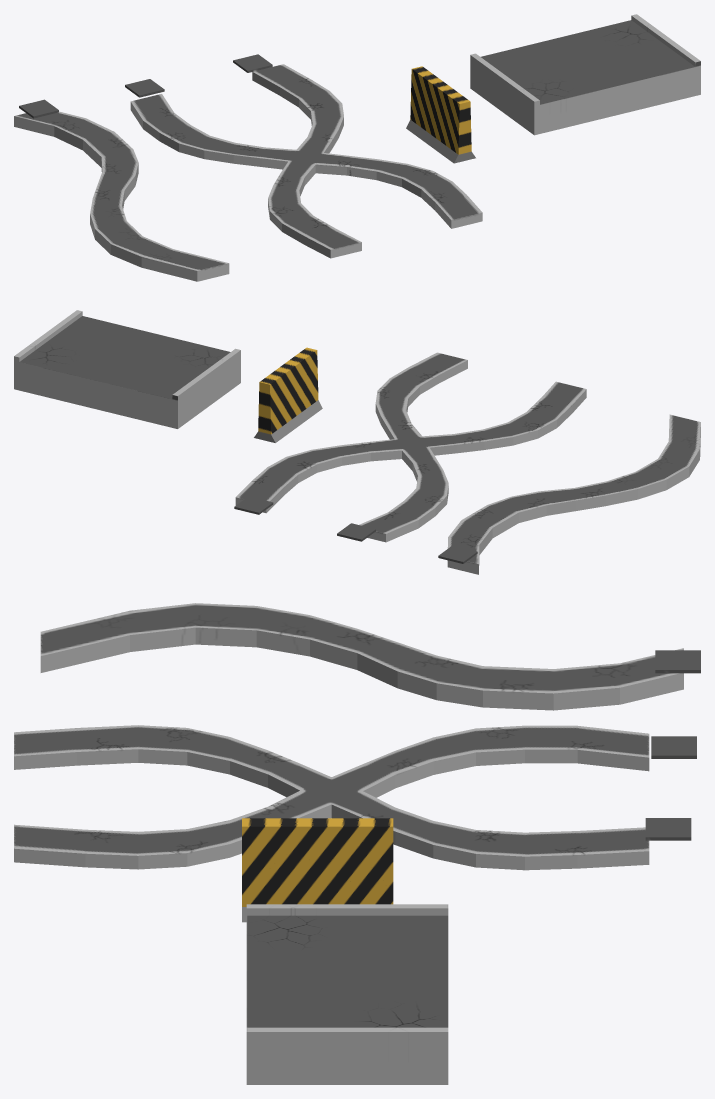
File: map-road crack.fbx
3 renders of one model, top to bottom at view 1: azimuth 30°, elevation 25°; view 2: azimuth 150°, elevation 25°; view 3: azimuth 270°, elevation 25°, orthographic. The views are drawn at different scales.
Parts seen in each view (by area): view 1: Floor_2x3_SE_T_main_1, pCube22__1_, road1, RoadPart_02, road2; view 2: Floor_2x3_SE_T_main_1, pCube22__1_, road1, RoadPart_02, road2; view 3: pCube22__1_, Floor_2x3_SE_T_main_1, road1, RoadPart_02, road2.
Boxes of the visible parts, x1,y1,x2,y2 form: Floor_2x3_SE_T_main_1: [470, 14, 700, 135]; pCube22__1_: [130, 64, 482, 258]; road1: [14, 99, 229, 281]; RoadPart_02: [406, 66, 475, 163]; road2: [125, 54, 272, 97]; Floor_2x3_SE_T_main_1: [14, 310, 240, 428]; pCube22__1_: [235, 352, 586, 542]; road1: [438, 414, 700, 574]; RoadPart_02: [254, 347, 322, 442]; road2: [234, 496, 375, 541]; pCube22__1_: [14, 725, 649, 870]; Floor_2x3_SE_T_main_1: [246, 904, 448, 1084]; road1: [40, 603, 700, 710]; RoadPart_02: [242, 818, 393, 922]; road2: [645, 736, 696, 840].
Bounding box in the file's own units: 1092 × 100 × 681.
